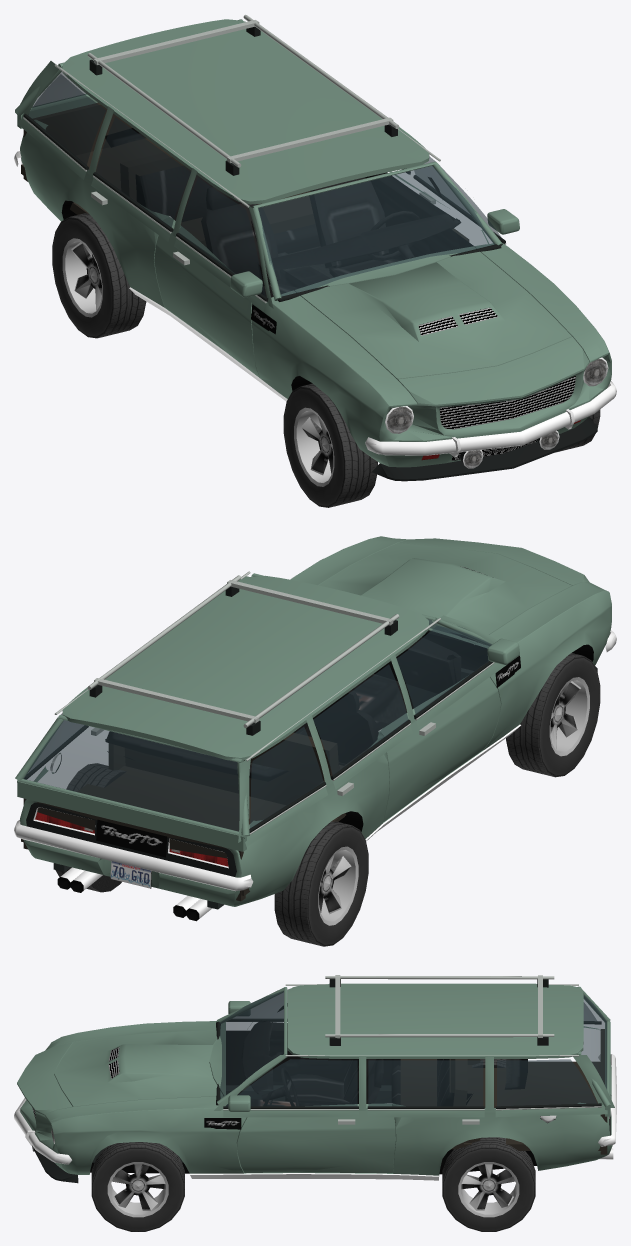
The model's file is wagon.glb.
3 renders of one model, top to bottom at view 1: azimuth 30°, elevation 25°; view 2: azimuth 150°, elevation 25°; view 3: azimuth 270°, elevation 25°, orthographic. The views are drawn at different scales.
Parts seen in each view (by area): view 1: panel_BodyRoof, panel_hood_81, glass_Windshield, panel_FrontFenderL_119, panel_BodyDoorL_114, Wheel_137, Wheel_131, glass_BodyDoorRearL, glass_BodyDoorL, panel_hood_99, detail_22_21, glass_CargoL (+37 smaller); view 2: panel_BodyRoof, panel_hood_81, glass_Rear, panel_BodyDoorL_114, panel_FrontFenderL_119, Wheel_137, Interior Estate rear seat back, Interior Estate cargo floor, glass_BodyDoorRearL, Wheel_131, panel_RearQuarterL_118, glass_BodyDoorL (+38 smaller); view 3: panel_BodyRoof, panel_hood_81, panel_FrontFenderR_110, panel_BodyDoorR_105, glass_BodyDoorRearR, glass_BodyDoorR, panel_RearQuarterR_109, Interior Estate cargo floor, Wheel_134, glass_Windshield, Wheel_128, glass_CargoR (+39 smaller).
Part boxes in pixels (left/top/right/bottom): panel_BodyRoof: left=62, top=19, right=429, bottom=204; panel_hood_81: left=282, top=244, right=602, bottom=406; glass_Windshield: left=258, top=166, right=494, bottom=296; panel_FrontFenderL_119: left=259, top=302, right=388, bottom=463; panel_BodyDoorL_114: left=174, top=235, right=271, bottom=386; Wheel_137: left=52, top=213, right=146, bottom=338; Wheel_131: left=283, top=383, right=377, bottom=507; glass_BodyDoorRearL: left=96, top=117, right=190, bottom=227; glass_BodyDoorL: left=179, top=178, right=265, bottom=296; panel_hood_99: left=388, top=368, right=601, bottom=467; detail_22_21: left=201, top=186, right=299, bottom=297; glass_CargoL: left=28, top=74, right=105, bottom=165; panel_BodyRoof: left=62, top=575, right=429, bottom=760; panel_hood_81: left=308, top=538, right=602, bottom=647; glass_Rear: left=24, top=720, right=239, bottom=831; panel_BodyDoorL_114: left=403, top=667, right=508, bottom=807; panel_FrontFenderL_119: left=496, top=590, right=611, bottom=741; Wheel_137: left=274, top=821, right=368, bottom=946; Interior Estate rear seat back: left=124, top=732, right=338, bottom=804; Interior Estate cargo floor: left=21, top=766, right=338, bottom=895; glass_BodyDoorRearL: left=313, top=664, right=408, bottom=774; Wheel_131: left=506, top=653, right=600, bottom=777; panel_RearQuarterL_118: left=234, top=785, right=336, bottom=904; glass_BodyDoorL: left=397, top=626, right=491, bottom=714; panel_BodyRoof: left=287, top=983, right=583, bottom=1058; panel_hood_81: left=17, top=1025, right=225, bottom=1121; panel_FrontFenderR_110: left=51, top=1107, right=225, bottom=1174; panel_BodyDoorR_105: left=226, top=1111, right=362, bottom=1173; glass_BodyDoorRearR: left=368, top=1060, right=483, bottom=1106; glass_BodyDoorR: left=225, top=1059, right=357, bottom=1106; panel_RearQuarterR_109: left=489, top=1108, right=611, bottom=1170; Interior Estate cargo floor: left=464, top=1061, right=606, bottom=1150; Wheel_134: left=442, top=1137, right=535, bottom=1231; glass_Windshield: left=220, top=991, right=283, bottom=1098; Wheel_128: left=91, top=1142, right=184, bottom=1231; glass_CargoR: left=497, top=1059, right=597, bottom=1106.
Size of what is drawn, in the model's own units: 1.95 by 1.59 by 4.85.
19 materials, 9 textured.
